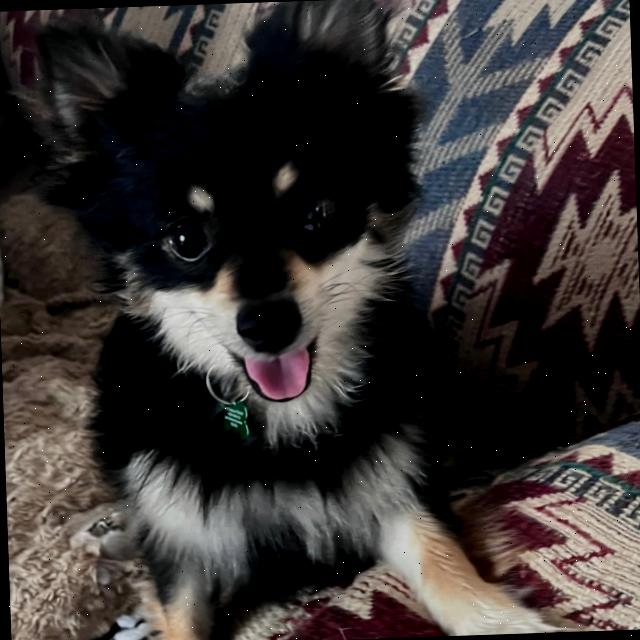pomeranian_dog: (11, 0, 443, 451)
